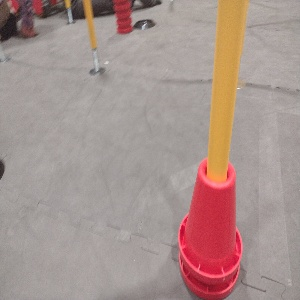Red_2: (173, 156, 243, 298)
Red_5: (111, 0, 136, 33)
